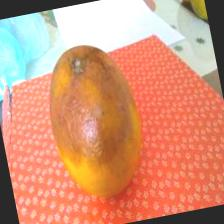Orange Rotten: (35, 33, 160, 216)
